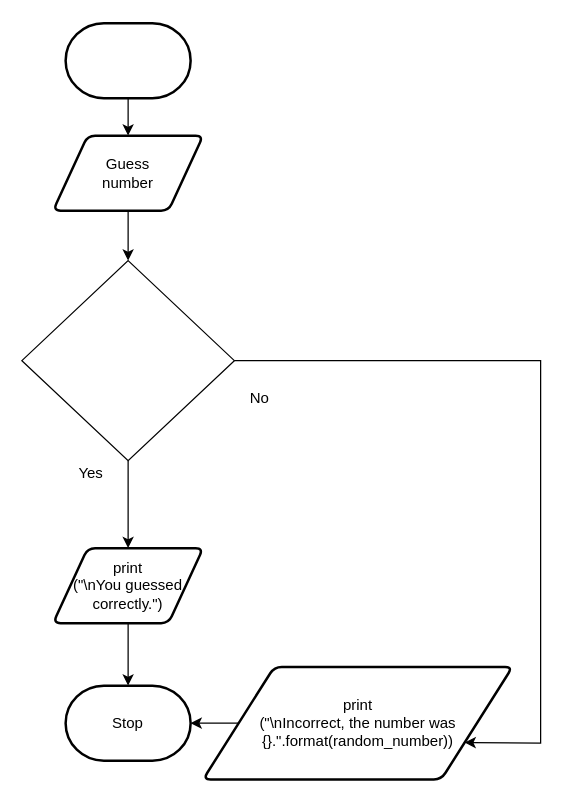
This 573x801 diagram has some shape labels left out. Each missing label, with the centre of its shape:
"if guessed_number == random_number:" belongs at point 127,360.
"Start" belongs at point 127,60.
